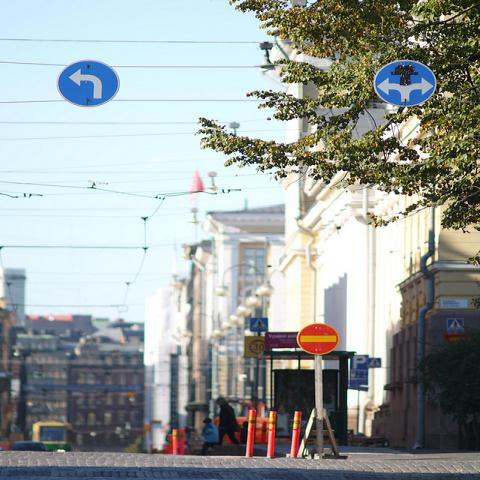bus: (32, 421, 70, 452)
car: (7, 440, 48, 452)
